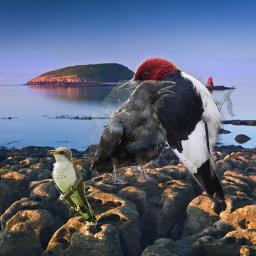Crow: (89, 80, 176, 184)
Cuckoo: (47, 146, 97, 225)
Woodpecker: (111, 55, 235, 211)
